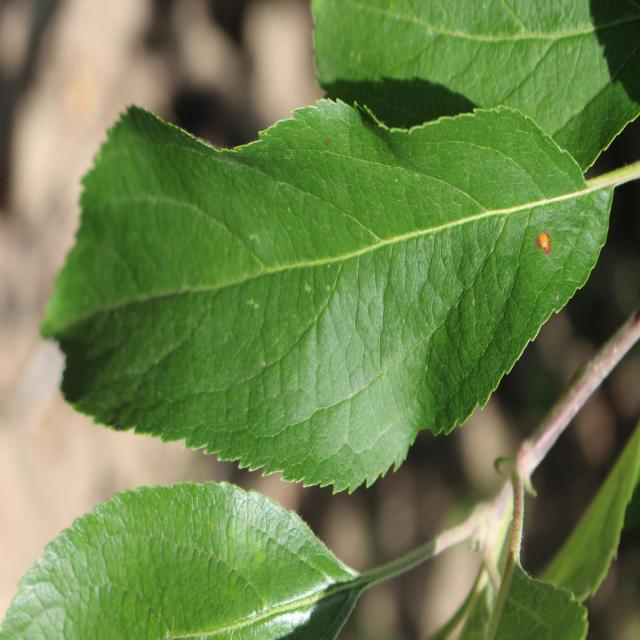Rust: (534, 230, 554, 261)
